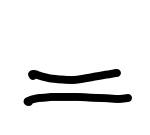eqv: (20, 66, 134, 110)
